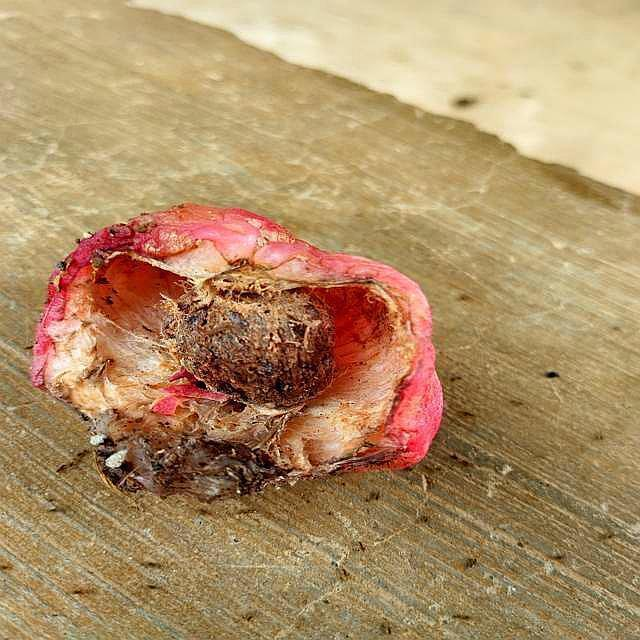Biodegradable: (36, 201, 439, 494)
